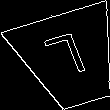L_S: (45, 31, 96, 89)
